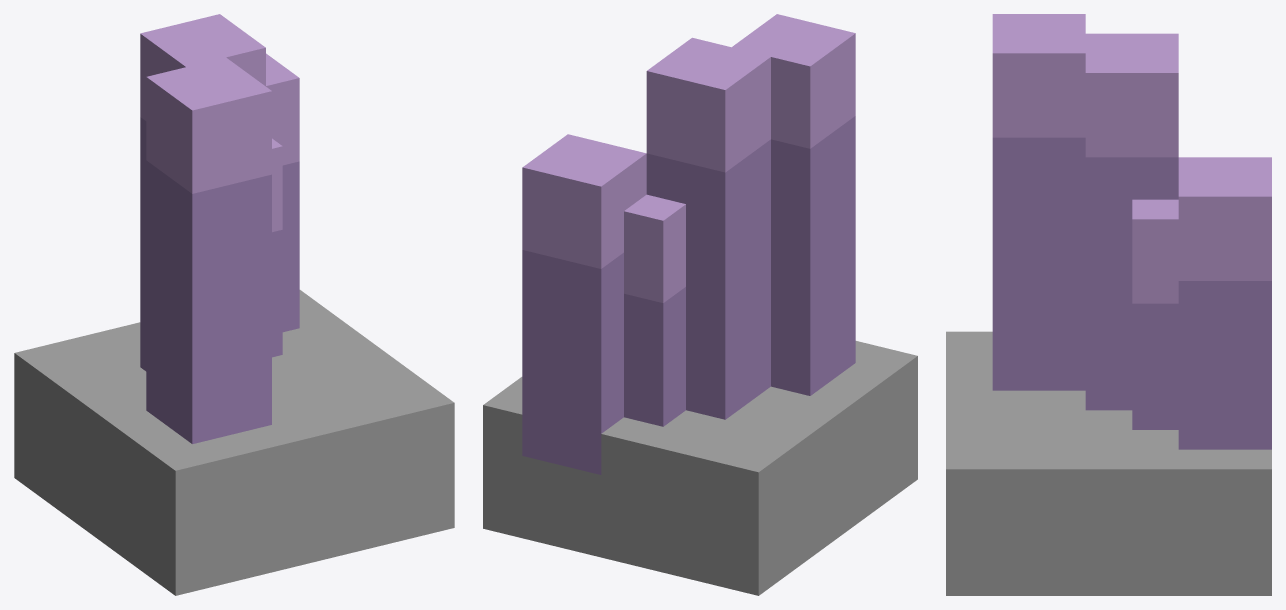
Rendered from geoda_01.glb.
The picture shows the model from 3 angles, left to right: view 1: azimuth 30°, elevation 25°; view 2: azimuth 150°, elevation 25°; view 3: azimuth 270°, elevation 25°; orthographic projection. The views are drawn at different scales.
Visible parts, largest first — view 1: geoda_01; view 2: geoda_01; view 3: geoda_01.
Part boxes in pixels (left/top/right/bottom): geoda_01: left=14, top=14, right=454, bottom=595; geoda_01: left=483, top=14, right=917, bottom=595; geoda_01: left=946, top=14, right=1271, bottom=595.
Size of the model in its own units: 0.7 by 1.1 by 0.7.
